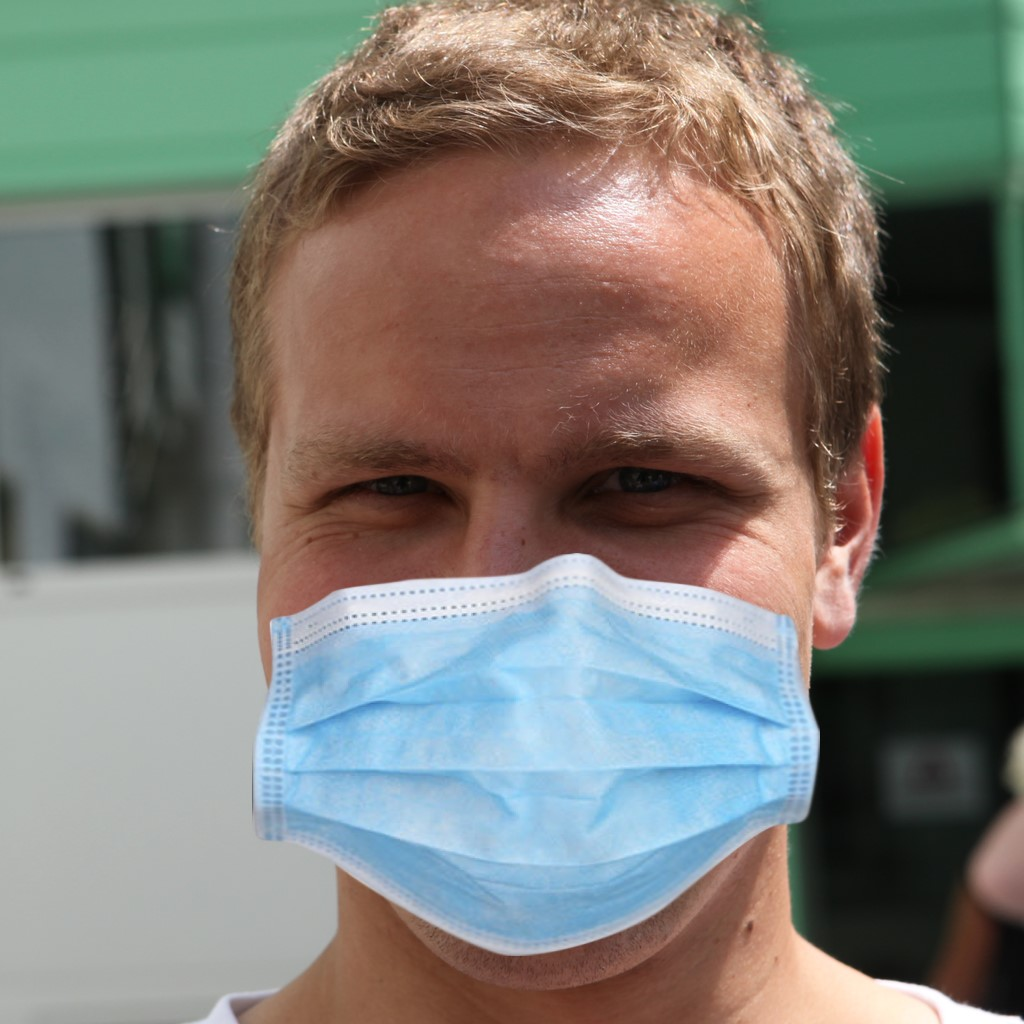con_mascara: (240, 136, 814, 980)
